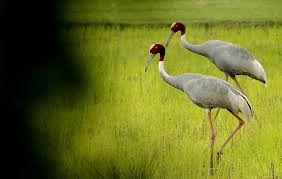seu_dau_do: (143, 42, 254, 170), (164, 19, 266, 88)
